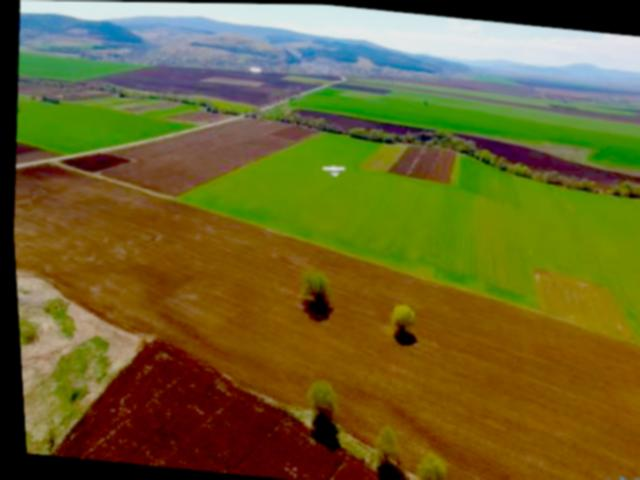uav: (316, 153, 347, 181)
